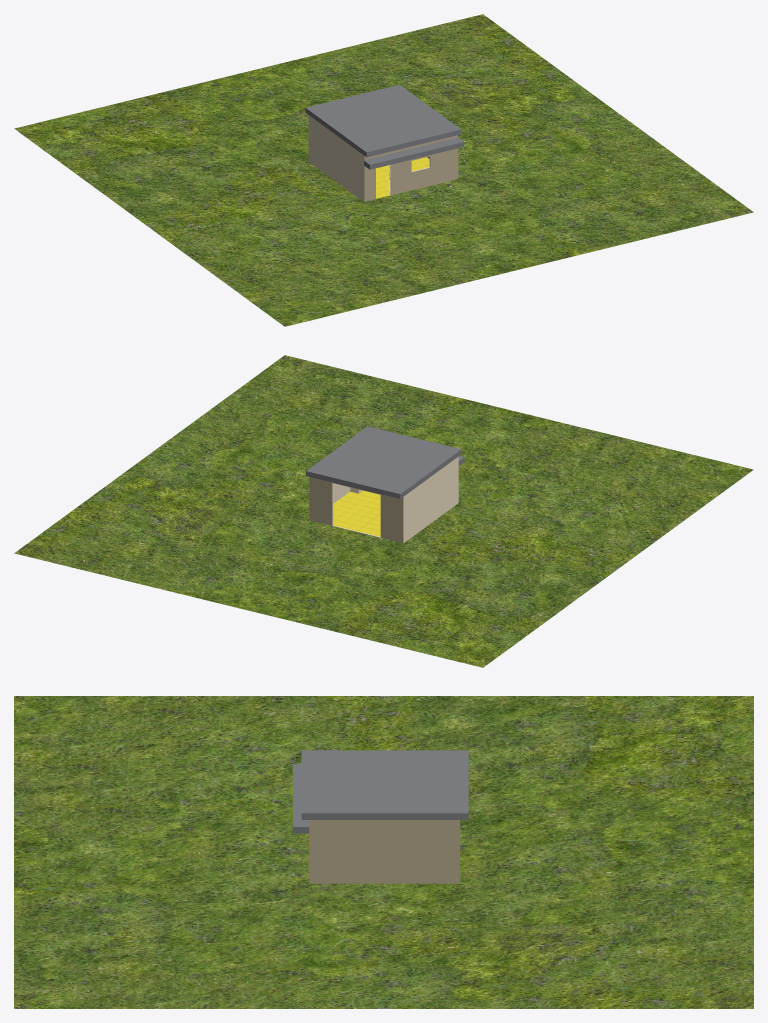
File: Casa.obj
The picture shows the model from 3 angles, top to bottom: view 1: azimuth 30°, elevation 25°; view 2: azimuth 150°, elevation 25°; view 3: azimuth 270°, elevation 25°; orthographic projection. The views are drawn at different scales.
Visible parts, largest first — view 1: pCube8; view 2: pCube8; view 3: pCube8.
Part boxes in pixels (<box>): pCube8: <box>14,14,753,326</box>; pCube8: <box>14,355,753,667</box>; pCube8: <box>14,696,753,1008</box>.
Size of the model in its own units: 100 by 10.52 by 100.
Materials: 13 (12 with a texture image).
